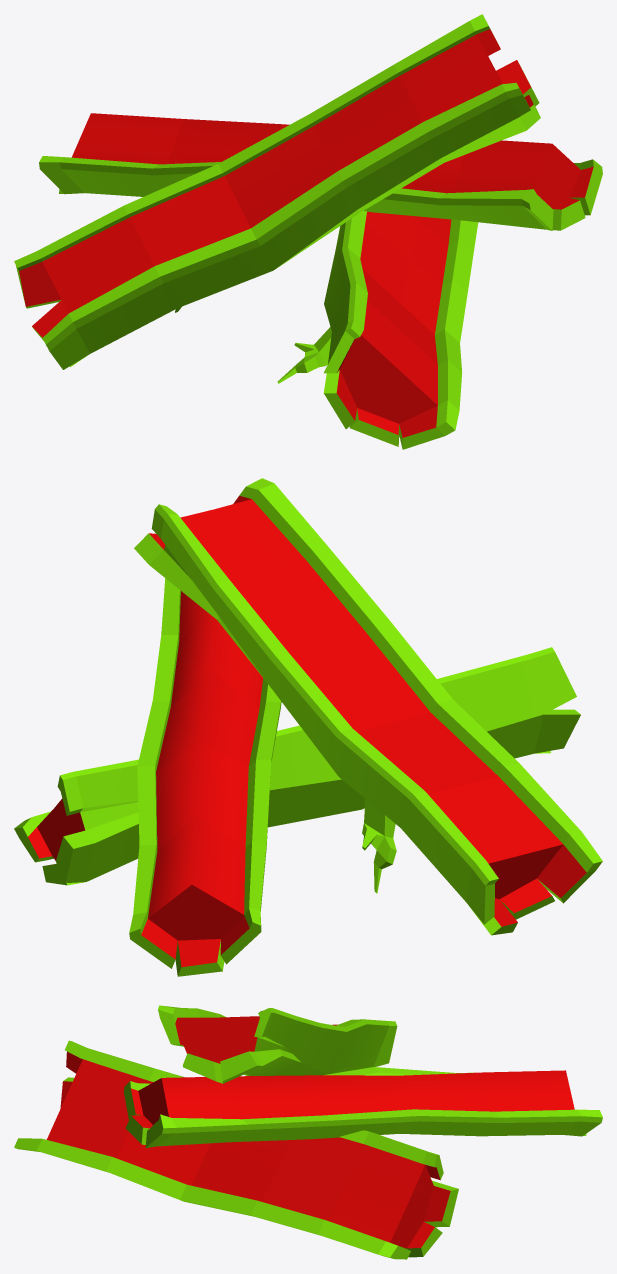
The model's file is feuerholzhalb_no_uvs.fbx.
3 views of the same model, one above another, from view 1: azimuth 30°, elevation 25°; view 2: azimuth 150°, elevation 25°; view 3: azimuth 270°, elevation 25° (orthographic). The views are drawn at different scales.
Visible parts, largest first — view 1: holzscheithalb2, holzscheithalb3, holzscheitdrittel; view 2: holzscheithalb2, holzscheitdrittel, holzscheithalb3; view 3: holzscheithalb3, holzscheitdrittel, holzscheithalb2.
Boxes of the visible parts, x1,y1,x2,y2 form: holzscheithalb2: (14,14,540,369); holzscheithalb3: (277,211,478,449); holzscheitdrittel: (39,113,602,230); holzscheithalb2: (134,478,602,935); holzscheitdrittel: (129,578,281,976); holzscheithalb3: (14,647,580,885); holzscheithalb3: (14,1040,458,1259); holzscheitdrittel: (123,1067,602,1148); holzscheithalb2: (158,1005,397,1083).
Bounding box in the file's own units: 72.21 × 41.74 × 90.34.
